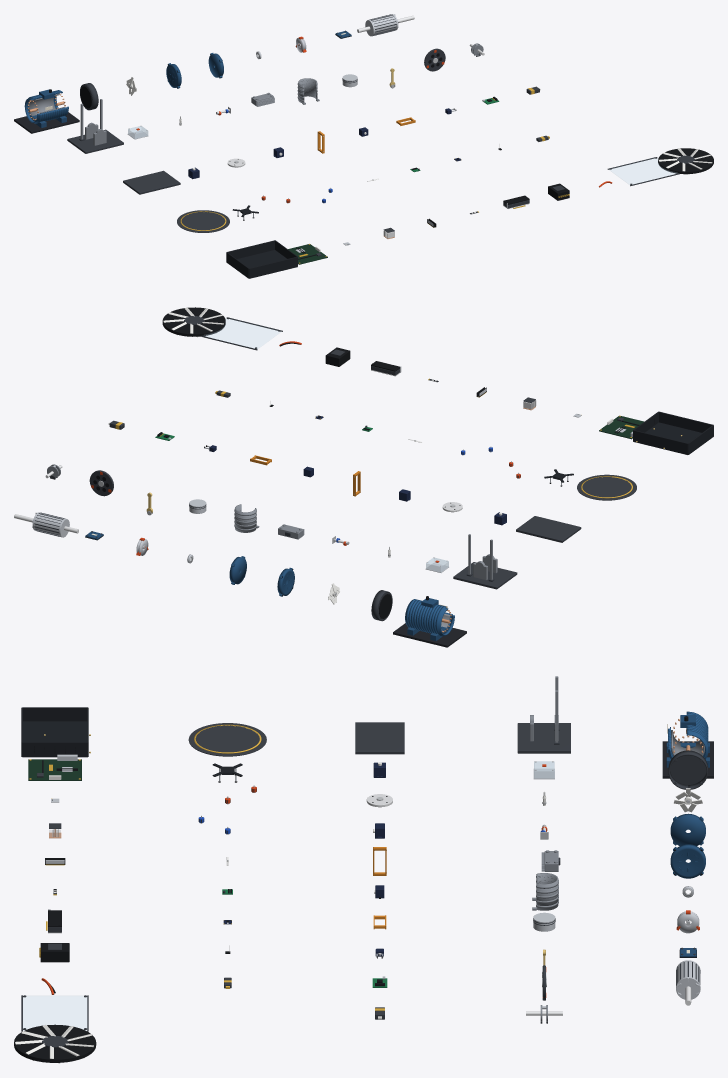
Rendered from machines-parts.glb.
3 renders of one model, top to bottom at view 1: azimuth 30°, elevation 25°; view 2: azimuth 150°, elevation 25°; view 3: azimuth 270°, elevation 25°, orthographic. The views are drawn at different scales.
Parts seen in each view (by area): view 1: PcCase, MotorStator, PcFan, EngineFrame, PcSidePanel, DronePad, RobotBase, MotorRotor, PcMainboard, EngineCylinder; view 2: PcCase, MotorStator, PcFan, PcSidePanel, EngineFrame, DronePad, RobotBase, MotorRotor, PcMainboard, MotorCowl; view 3: PcCase, PcFan, PcSidePanel, DronePad, EngineFrame, MotorStator, RobotBase, PcMainboard, MotorCowl, MotorFrontShield, MotorRearShield, MotorRotor (+2 smaller).
Boxes of the visible parts, x1=… form: PcCase: x1=226, y1=240, x2=297, y2=278; MotorStator: x1=14, y1=89, x2=79, y2=133; PcFan: x1=658, y1=148, x2=713, y2=174; EngineFrame: x1=67, y1=99, x2=123, y2=153; PcSidePanel: x1=607, y1=157, x2=679, y2=186; DronePad: x1=177, y1=210, x2=229, y2=232; RobotBase: x1=123, y1=170, x2=180, y2=194; MotorRotor: x1=357, y1=14, x2=414, y2=36; PcMainboard: x1=288, y1=244, x2=327, y2=264; EngineCylinder: x1=297, y1=78, x2=319, y2=104; PcCase: x1=633, y1=411, x2=713, y2=454; MotorStator: x1=393, y1=596, x2=466, y2=647; PcFan: x1=162, y1=307, x2=225, y2=337; PcSidePanel: x1=201, y1=317, x2=282, y2=350; EngineFrame: x1=453, y1=534, x2=517, y2=589; DronePad: x1=577, y1=474, x2=636, y2=500; RobotBase: x1=516, y1=516, x2=581, y2=542; MotorRotor: x1=14, y1=512, x2=78, y2=537; PcMainboard: x1=599, y1=415, x2=643, y2=439; MotorCowl: x1=371, y1=590, x2=392, y2=621; PcCase: x1=21, y1=707, x2=90, y2=757; PcFan: x1=14, y1=1024, x2=96, y2=1063; PcSidePanel: x1=21, y1=995, x2=88, y2=1031; DronePad: x1=188, y1=723, x2=266, y2=756; EngineFrame: x1=517, y1=676, x2=570, y2=753; MotorStator: x1=662, y1=711, x2=713, y2=778; RobotBase: x1=355, y1=722, x2=404, y2=754; PcMainboard: x1=28, y1=754, x2=81, y2=780; MotorCowl: x1=668, y1=750, x2=707, y2=789; MotorFrontShield: x1=670, y1=844, x2=705, y2=878; MotorRearShield: x1=670, y1=813, x2=705, y2=845; MotorRotor: x1=676, y1=960, x2=700, y2=1005.
Bounding box in the file's own units: 19.52 × 2.19 × 17.02.
